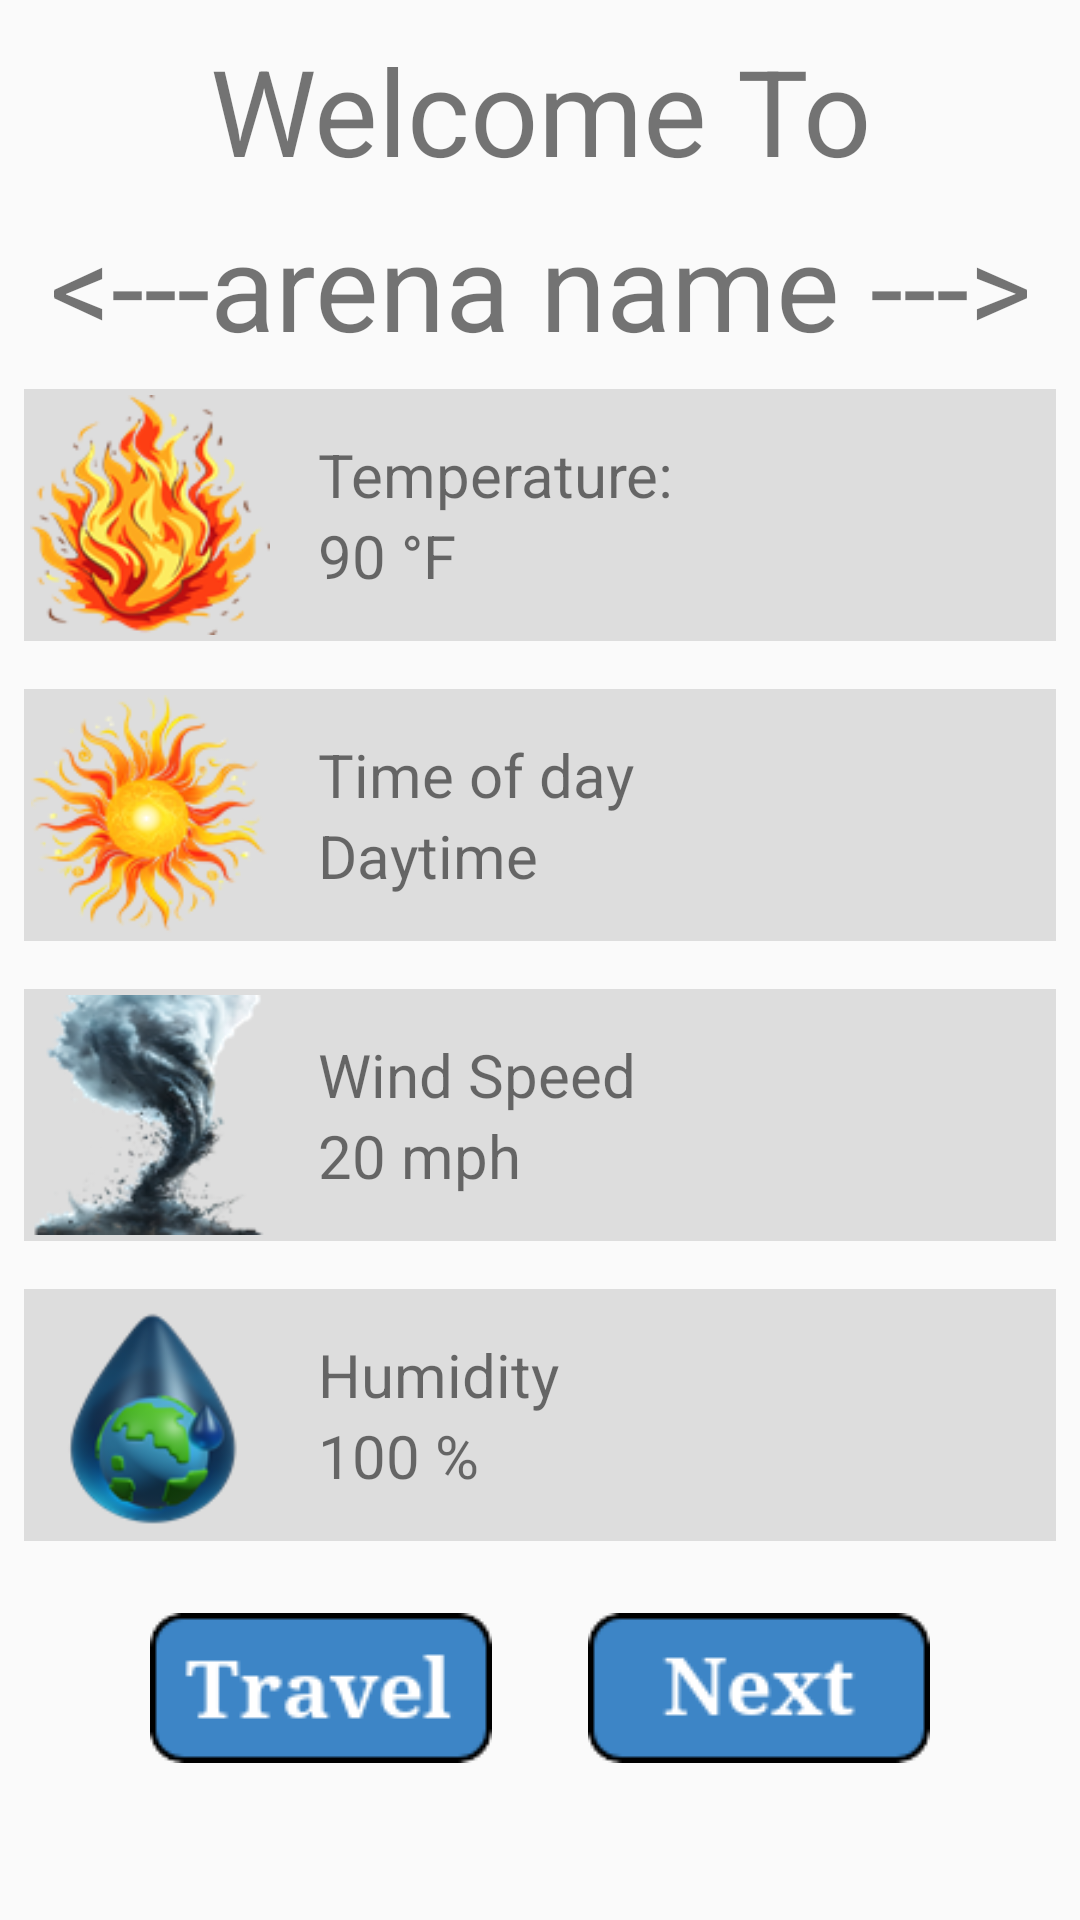

Screen size 1080x1920. Icon name, then its center in pixels as (x=x, y=y):
Windy bonus or calm no bonus: (x=148, y=1115)
